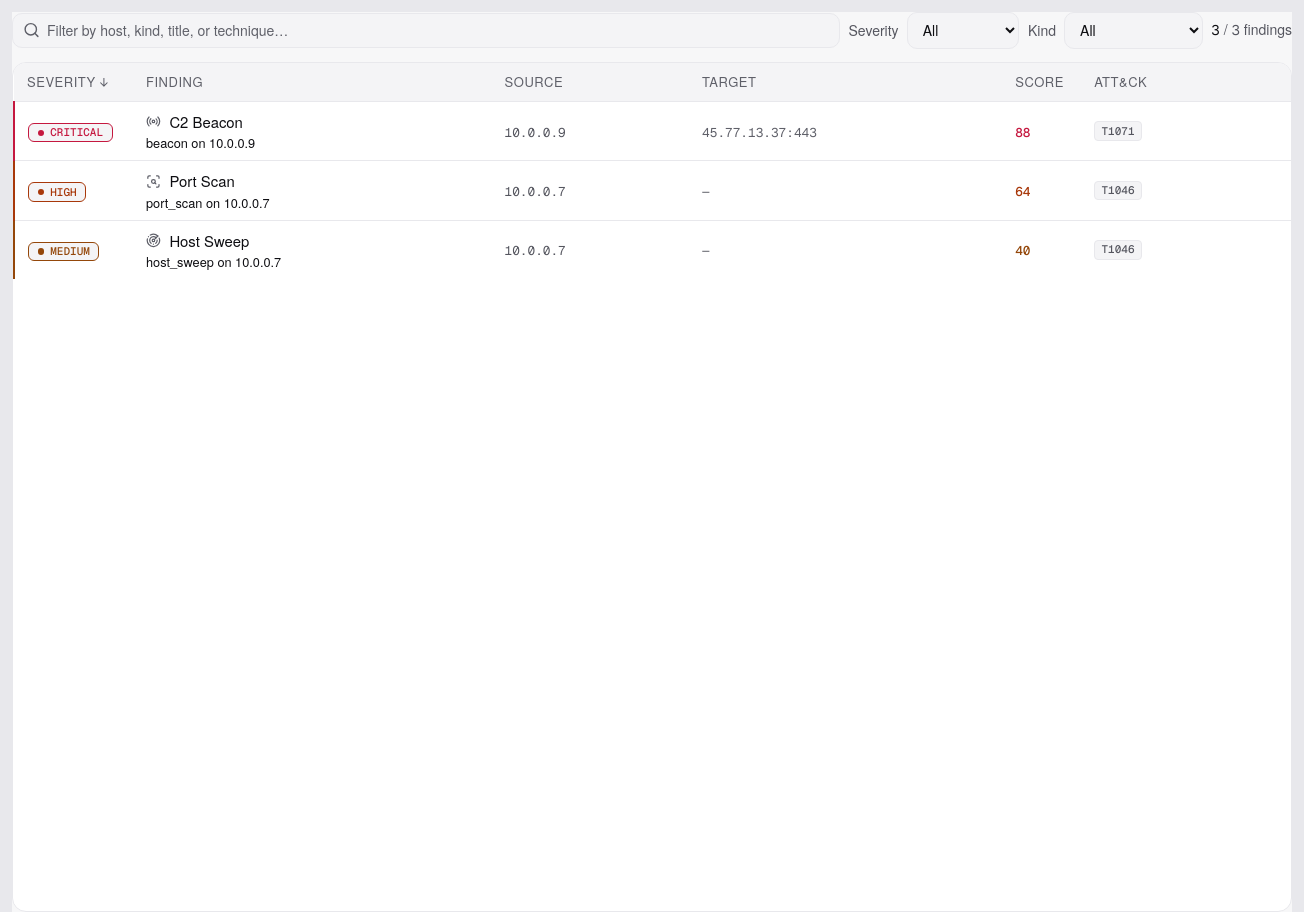
Test: FindingsView › sorts by a clicked column header
Click the button "Source" at (536, 82), box [505,72,567,92]
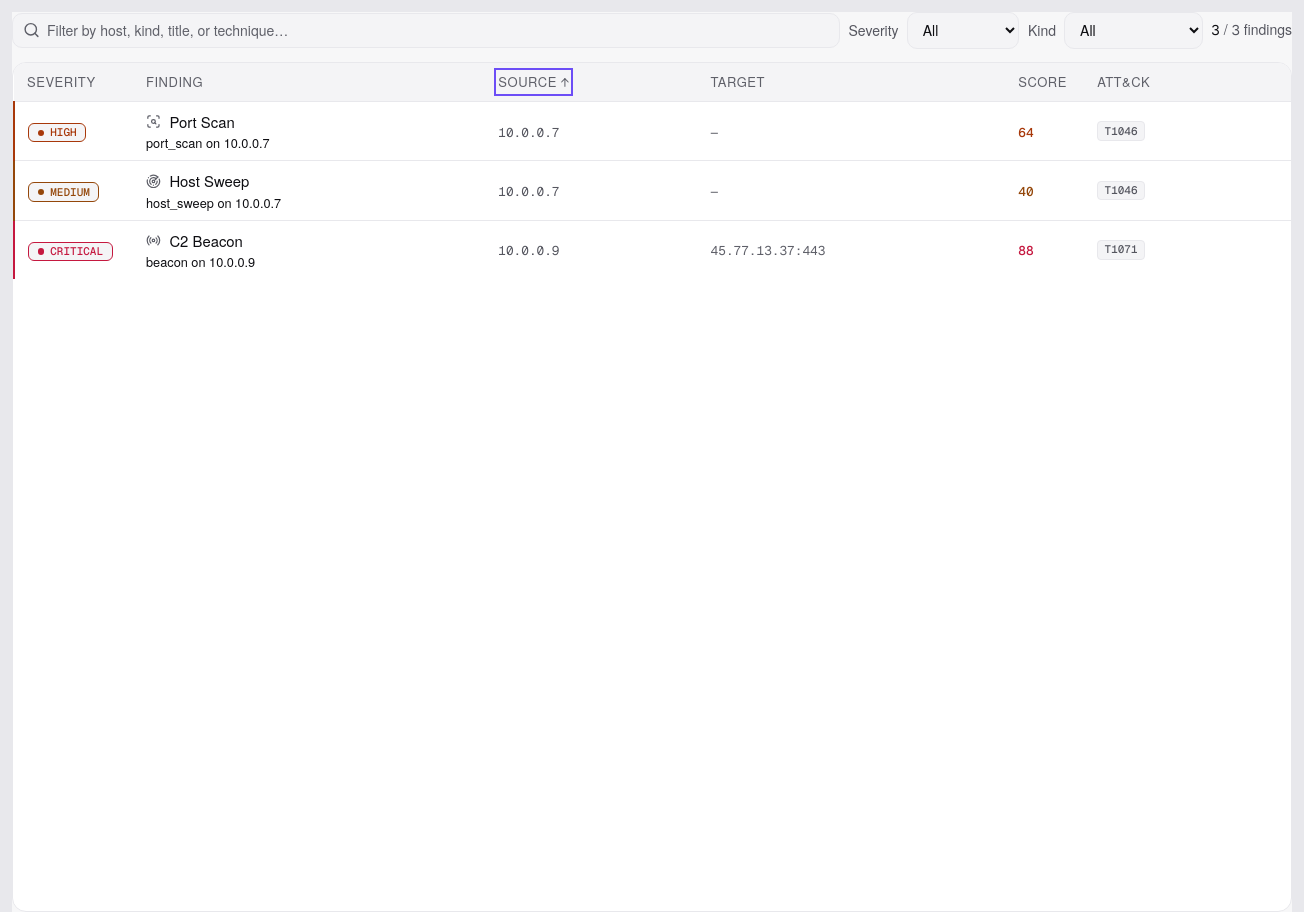
expect the row "High Port Scan port_scan on 10.0.0.7 10.0.0.7 — 64 T1046" is shown: met, box [14,102,1291,161]
